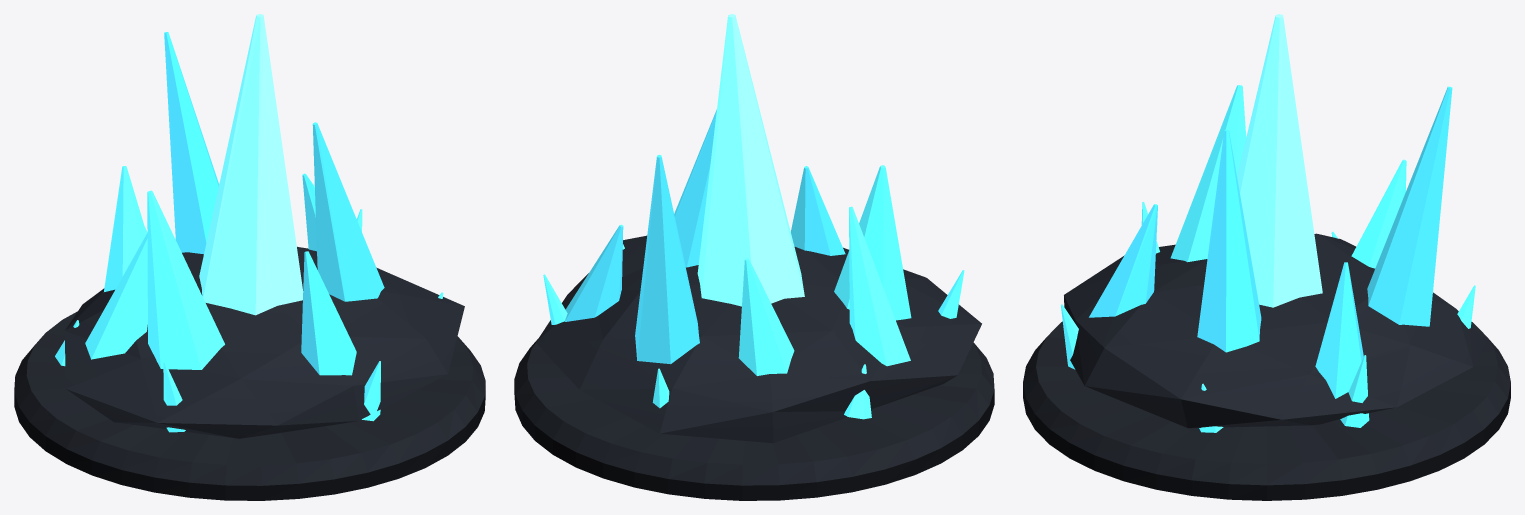
Rendered from crystal-mineral-cluster.glb.
The picture shows the model from 3 angles, left to right: view 1: azimuth 30°, elevation 25°; view 2: azimuth 150°, elevation 25°; view 3: azimuth 270°, elevation 25°; orthographic projection. The views are drawn at different scales.
Size of the model in its own units: 3.4 by 3 by 3.4.
